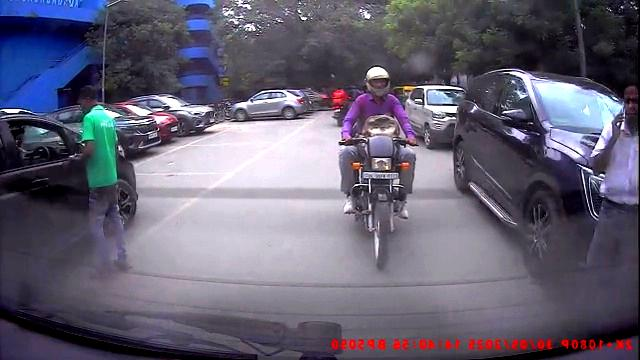motorcycle_with_helmet: (339, 65, 418, 271)
